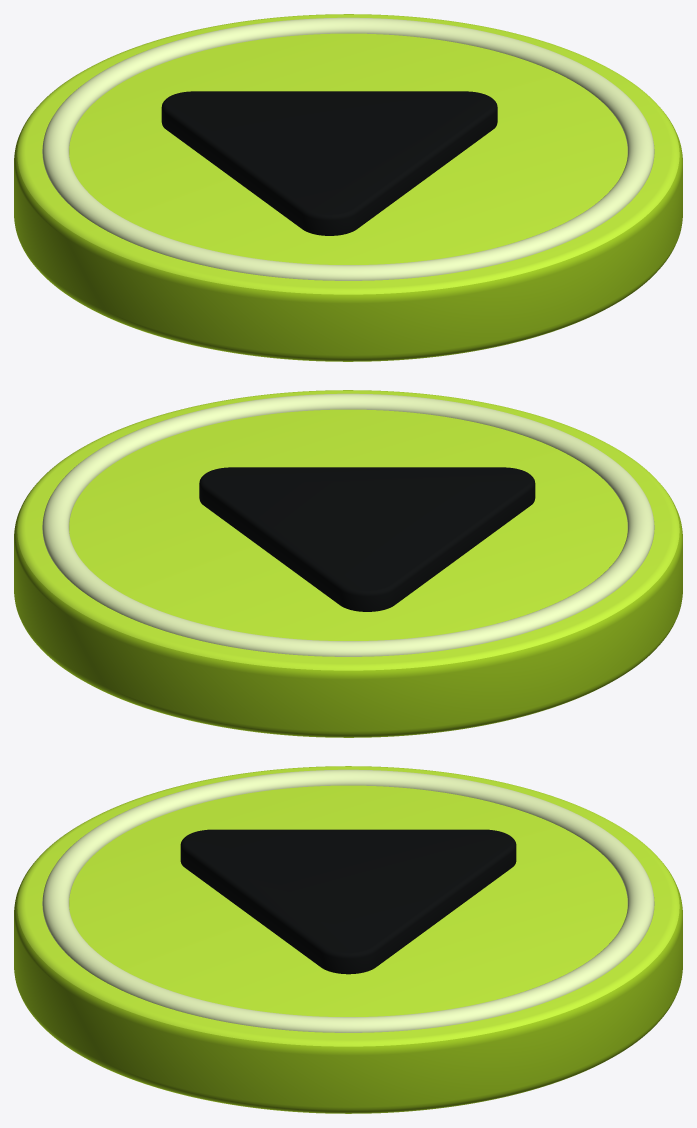
File: coin.glb
The picture shows the model from 3 angles, top to bottom: view 1: azimuth 30°, elevation 25°; view 2: azimuth 150°, elevation 25°; view 3: azimuth 270°, elevation 25°; orthographic projection.
Parts seen in each view (by area): view 1: Cylinder, mark, Torus; view 2: Cylinder, mark, Torus; view 3: Cylinder, mark, Torus.
Part boxes in pixels (x1=…): Cylinder: x1=14, y1=14, x2=682, y2=361; mark: x1=161, y1=91, x2=497, y2=235; Torus: x1=42, y1=17, x2=654, y2=280; Cylinder: x1=14, y1=390, x2=682, y2=737; mark: x1=199, y1=467, x2=535, y2=611; Torus: x1=42, y1=393, x2=654, y2=656; Cylinder: x1=14, y1=766, x2=682, y2=1113; mark: x1=180, y1=829, x2=516, y2=974; Torus: x1=42, y1=769, x2=654, y2=1032.
Size of the model in its own units: 2 by 0.37 by 2.
